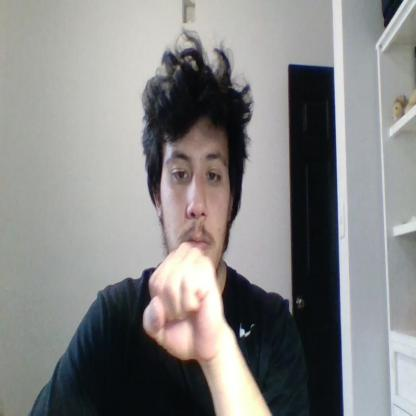S: (144, 243, 224, 359)
